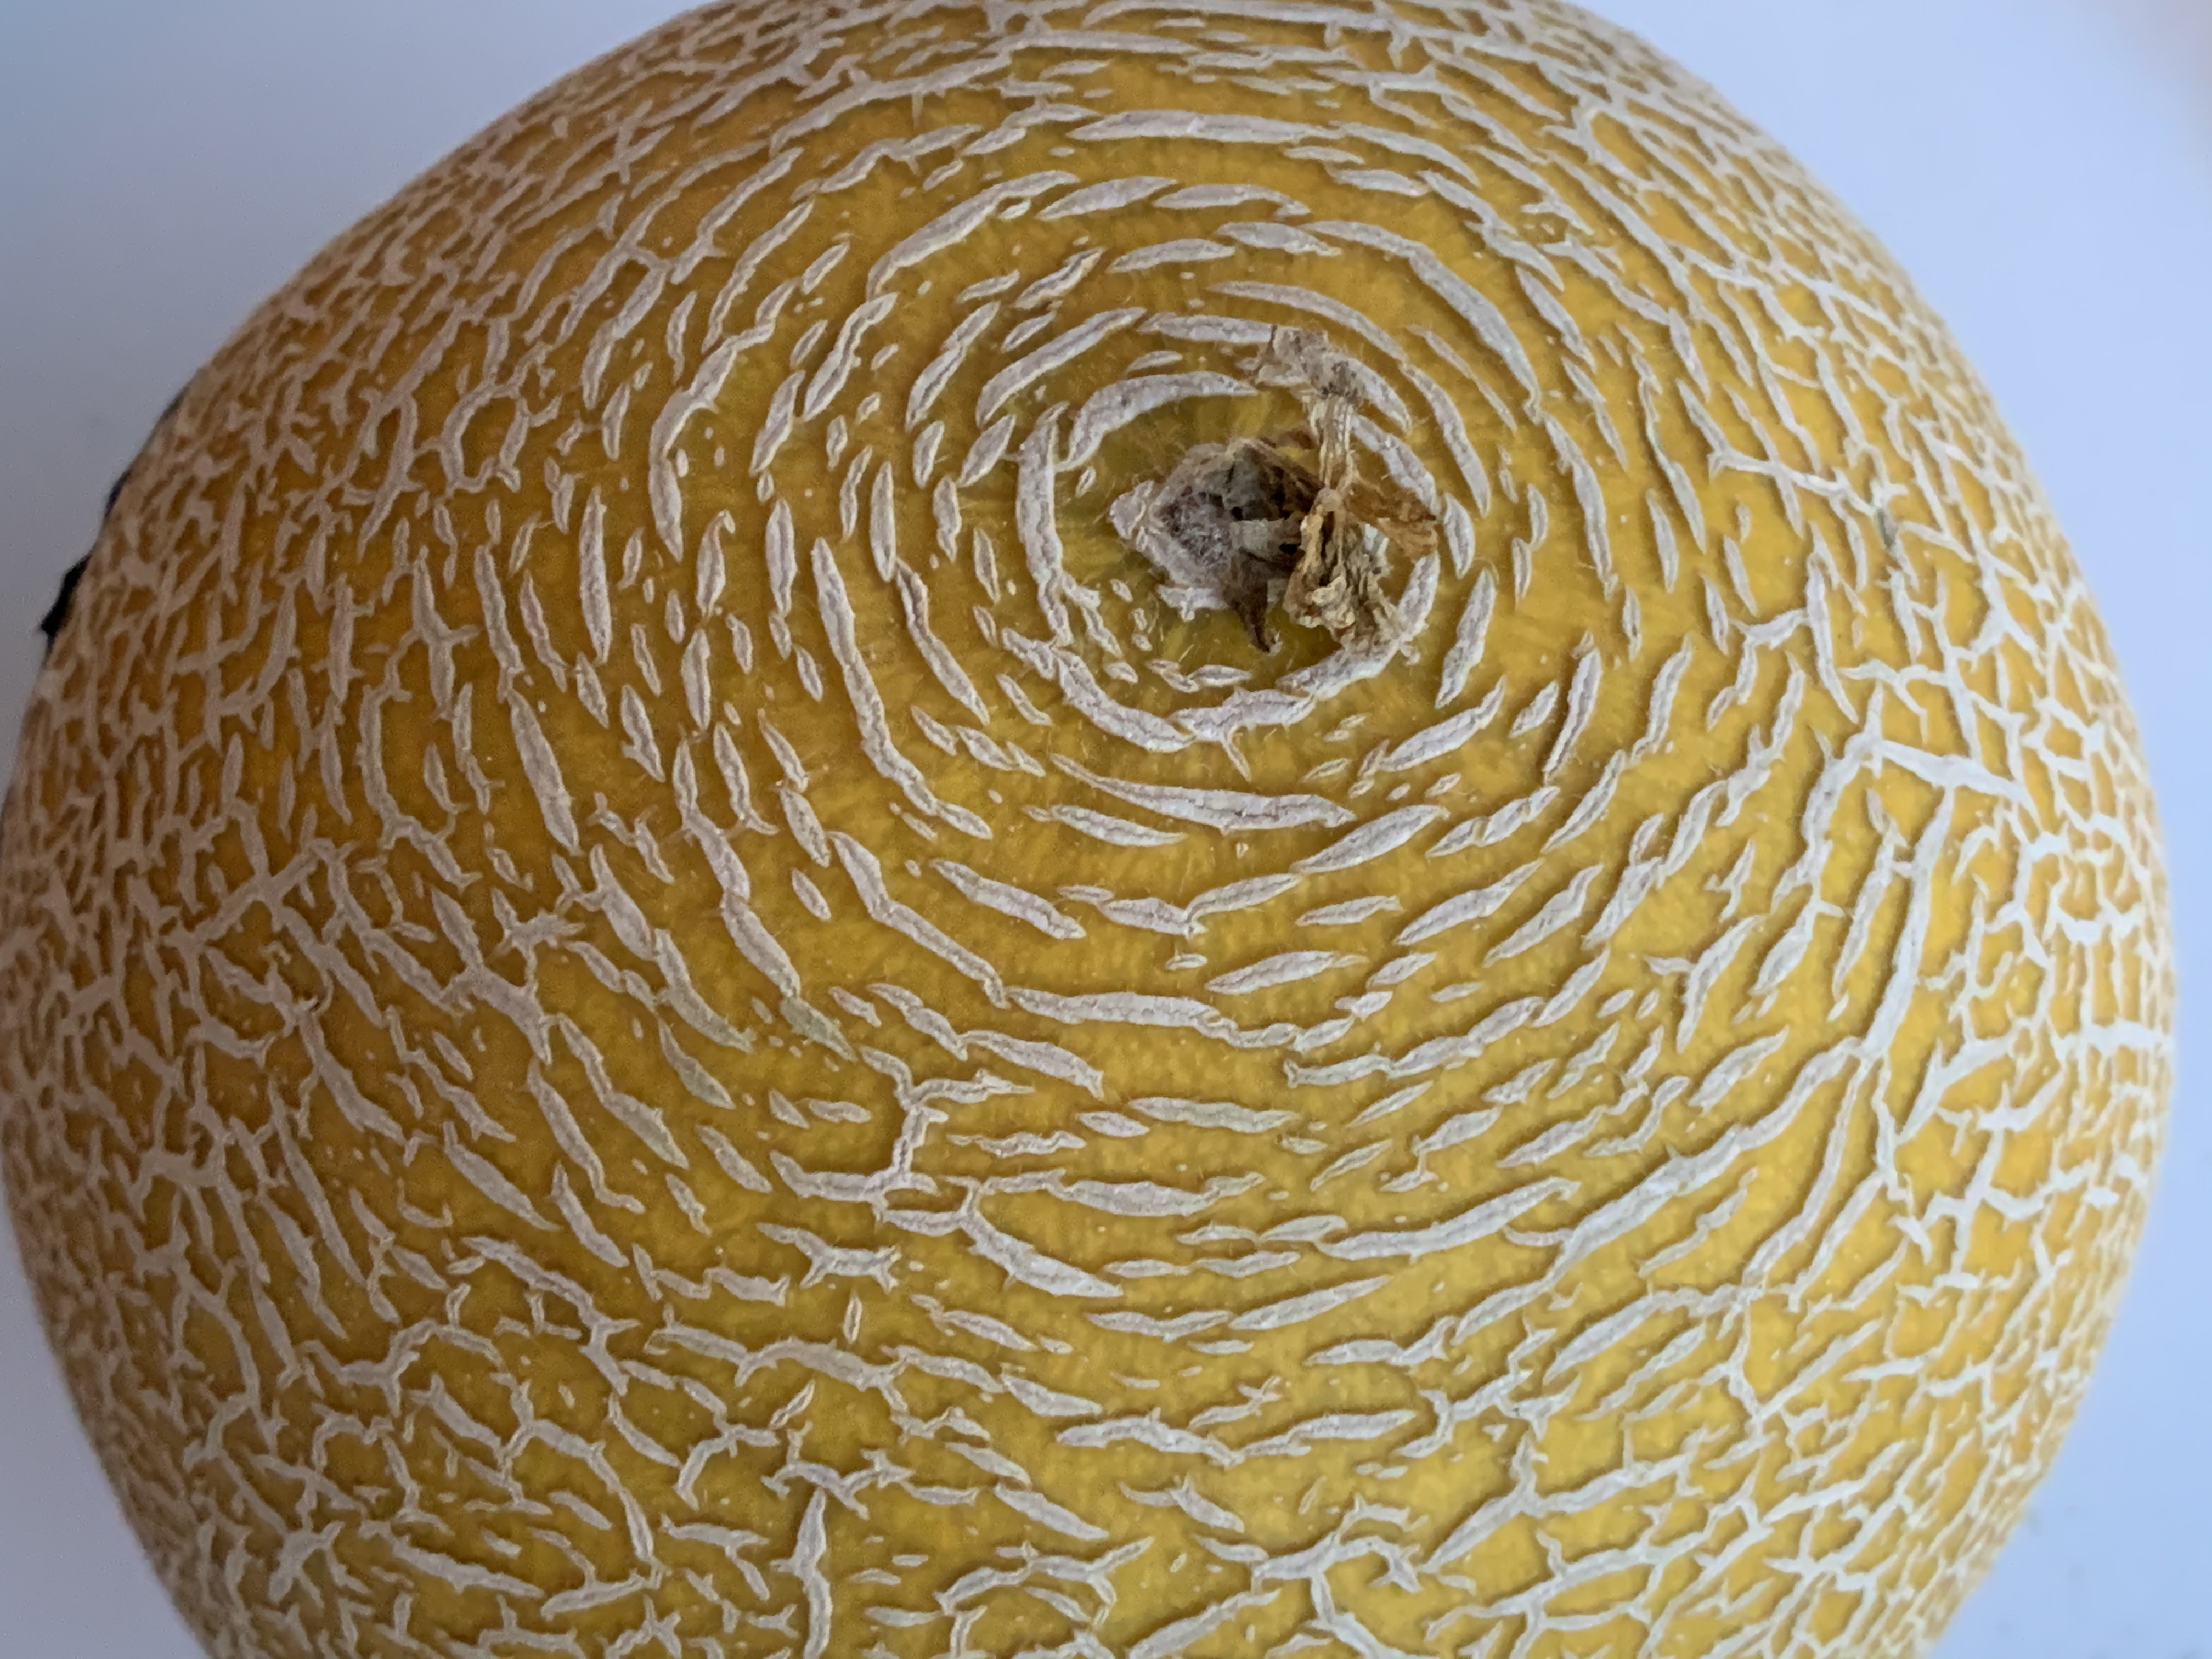galia melon: (2, 5, 2174, 1659)
